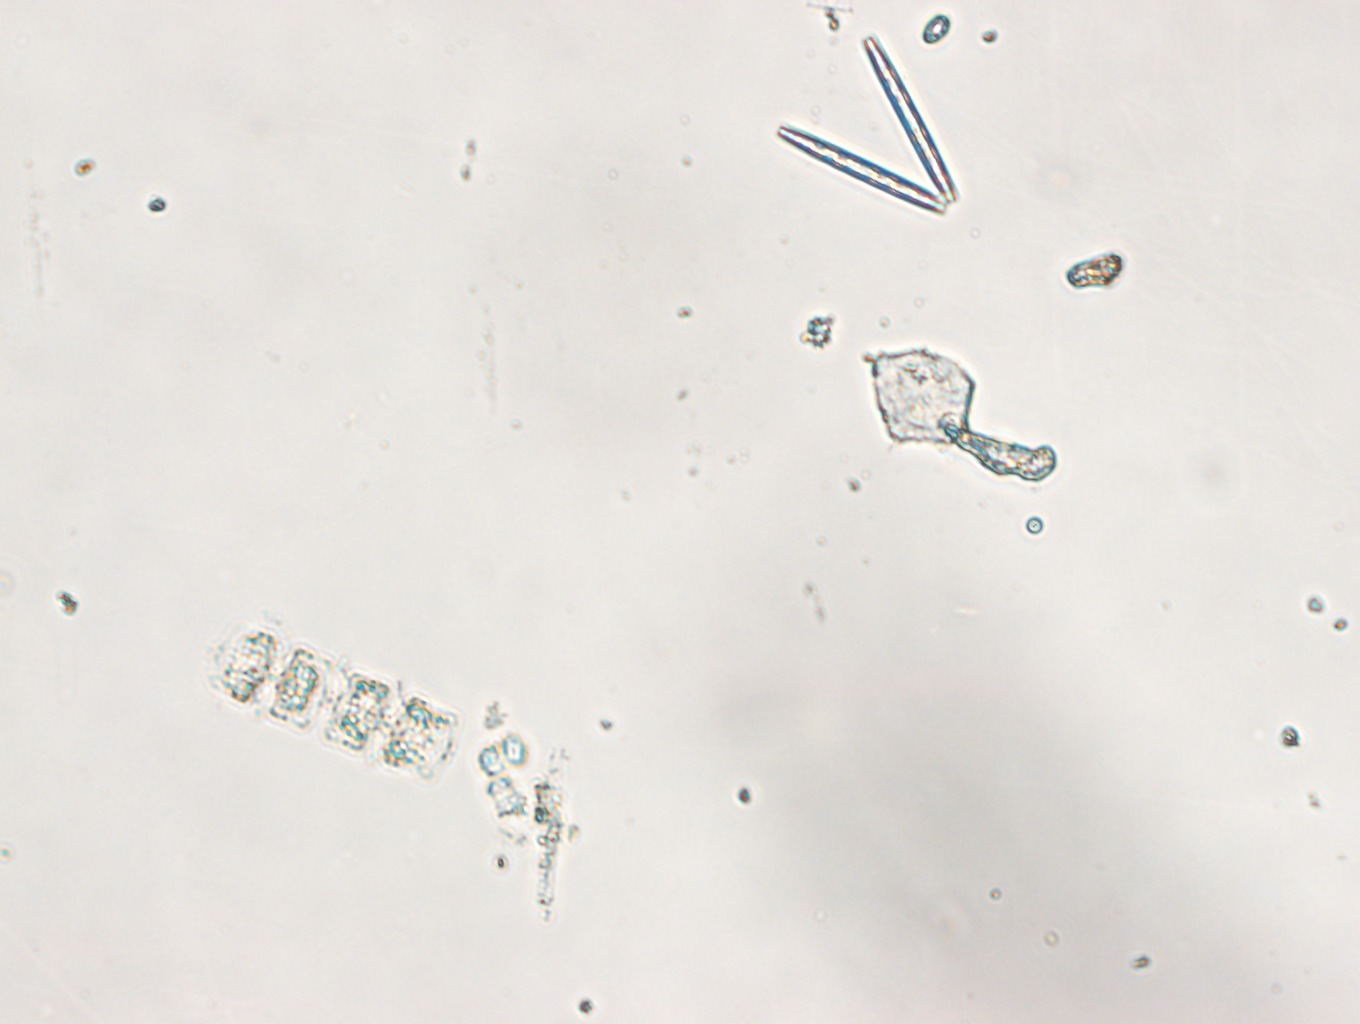detonula pumila: (198, 599, 476, 777)
thalassionema frauenfeldii: (781, 28, 973, 222)
